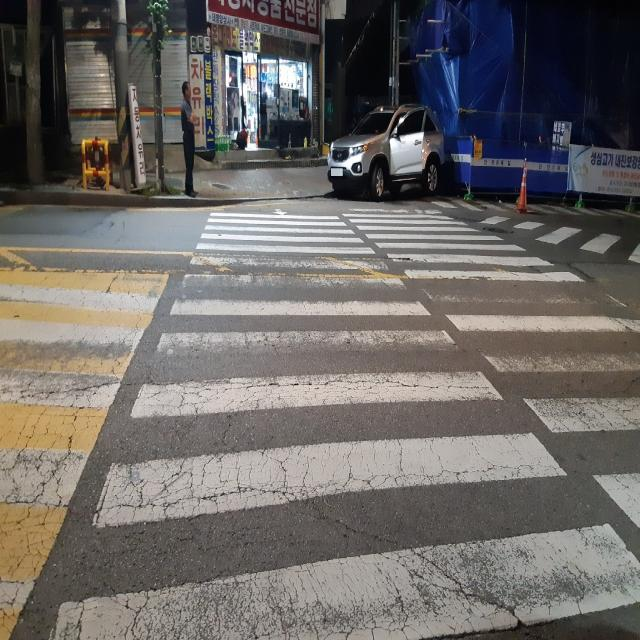횡단보도: (47, 205, 640, 640)
